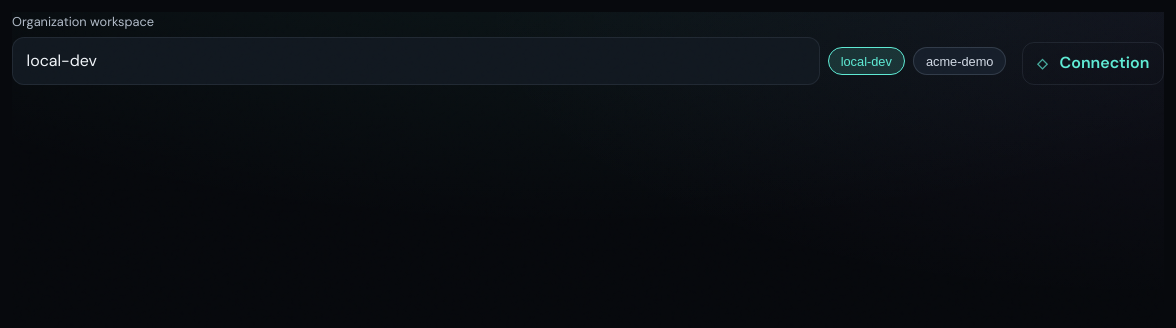
Test: WorkspaceBar › renders workspace controls and expandable connection settings
expect the field labelled "Organization workspace" is shown: met, box [12, 37, 820, 85]
Click the button "◇ Connection" at [1093, 64], box [1022, 42, 1164, 85]
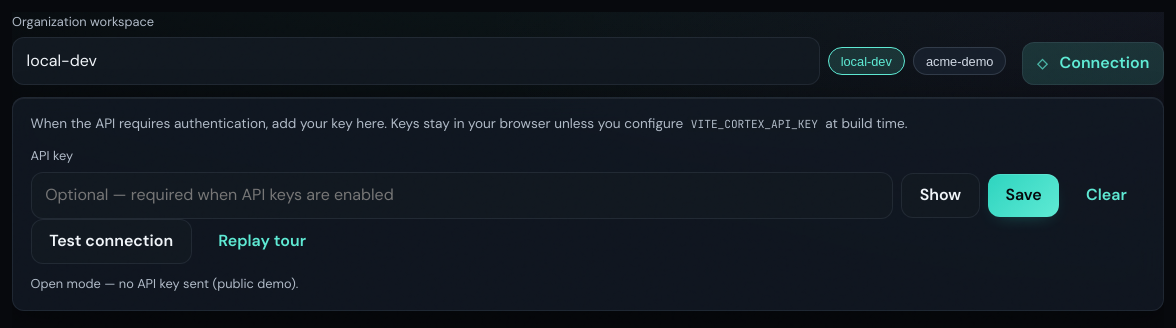
expect the password field labelled "API key" is shown: met, box [31, 172, 893, 219]
expect the button "Test connection" is shown: met, box [31, 219, 192, 264]
expect the button "Replay tour" is shown: met, box [200, 219, 325, 264]
